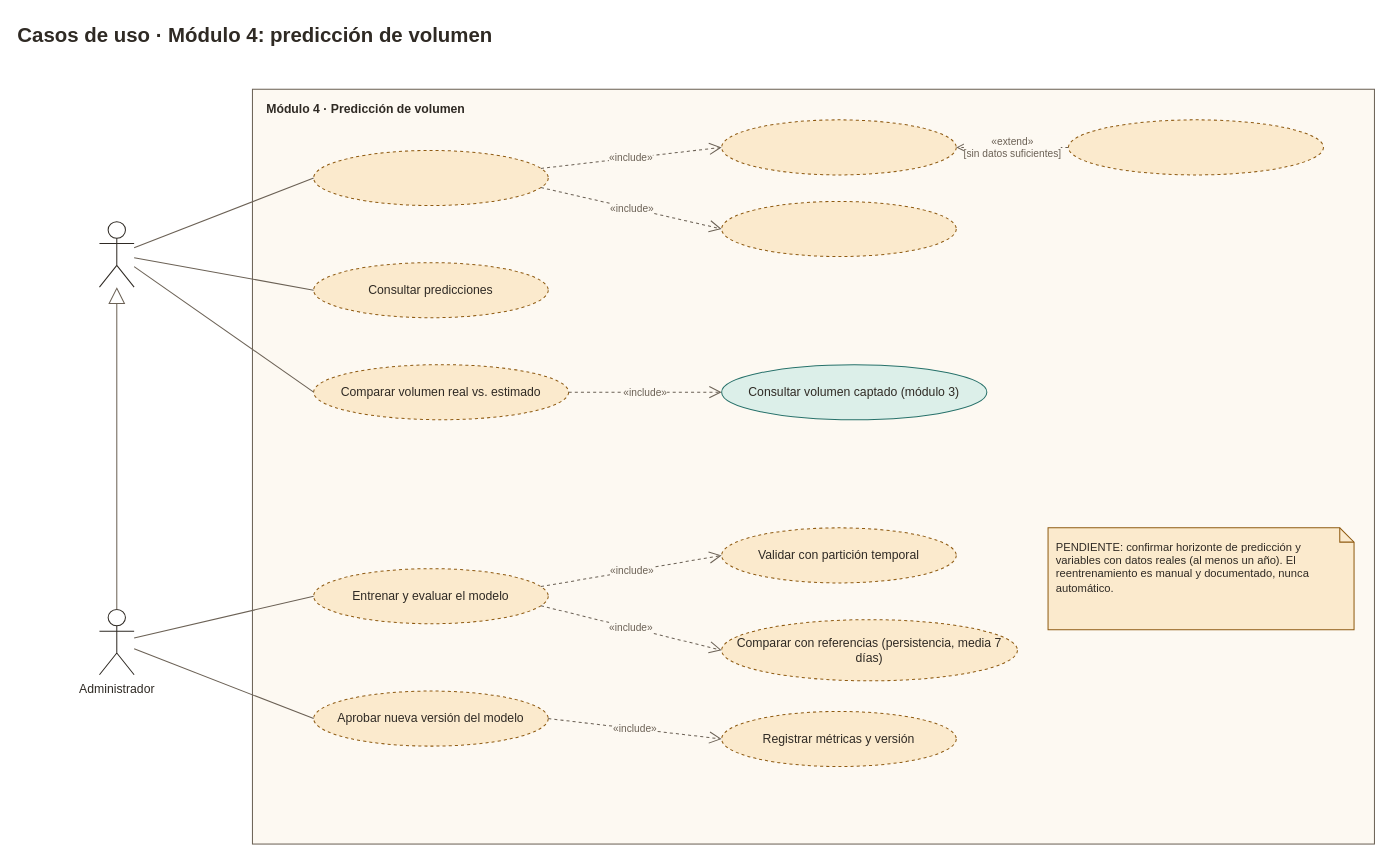
This 1392x862 diagram has some shape labels left out. Here are the shapes that lost their labels. From the top down, the centre of each, then its label:
At point 838,147: "Verificar datos suficientes".
At point 1195,147: "Informar «datos insuficientes»".
At point 430,177: "Generar predicción de volumen".
At point 838,228: "Cargar modelo versionado".
At point 116,254: "Director/docente".
